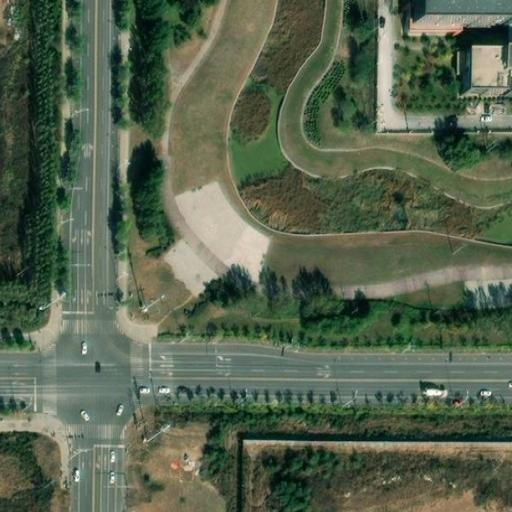building: (240, 431, 510, 460), (471, 44, 512, 90), (408, 0, 465, 29)
